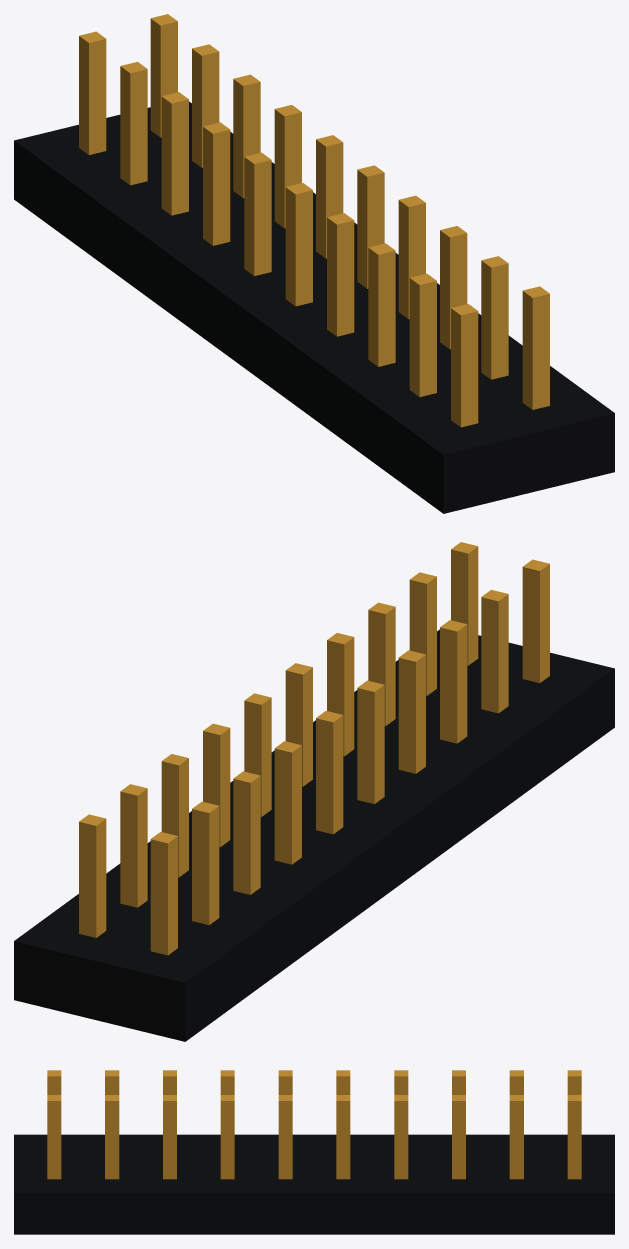
File: L131_USB_C_FRONT.fbx
3 views of the same model, one above another, from view 1: azimuth 30°, elevation 25°; view 2: azimuth 150°, elevation 25°; view 3: azimuth 270°, elevation 25° (orthographic). The views are drawn at different scales.
Parts seen in each view (by area): view 1: USB_C_FRONT_Black, USB_C_FRONT_Gold; view 2: USB_C_FRONT_Black, USB_C_FRONT_Gold; view 3: USB_C_FRONT_Black, USB_C_FRONT_Gold.
Part boxes in pixels (x1,y1,x2,y2): USB_C_FRONT_Black: (14, 101, 614, 513); USB_C_FRONT_Gold: (79, 14, 549, 427); USB_C_FRONT_Black: (14, 629, 614, 1041); USB_C_FRONT_Gold: (79, 542, 549, 955); USB_C_FRONT_Black: (14, 1134, 614, 1234); USB_C_FRONT_Gold: (47, 1070, 581, 1179).
Size of the model in its own units: 0.608 by 0.58 by 2.64.
